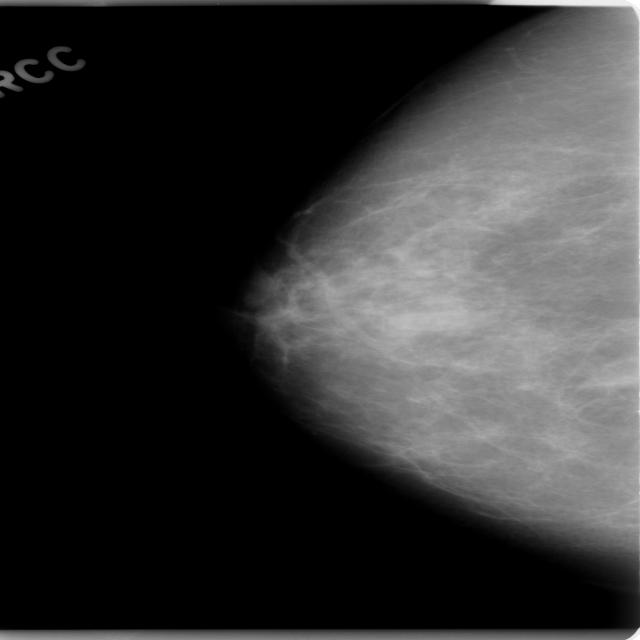normal: (245, 0, 640, 584)
